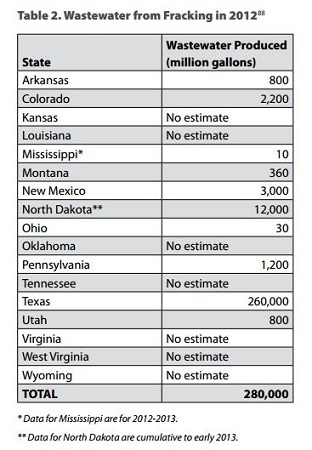fracking table: (15, 7, 298, 407)
